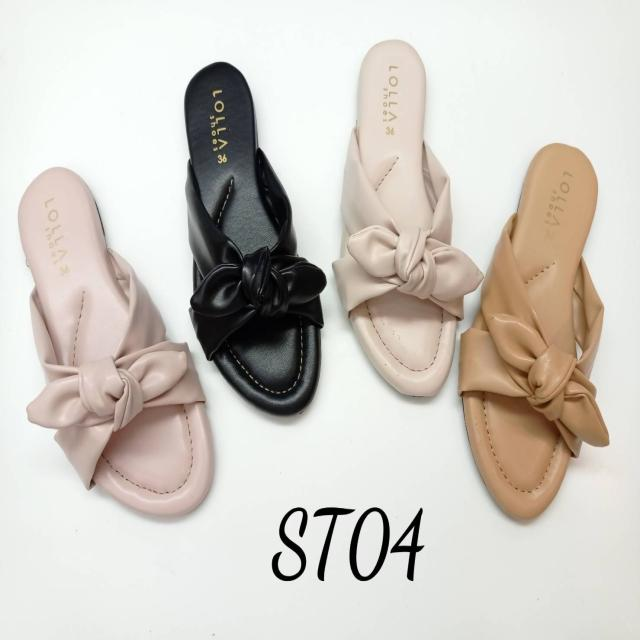black: (183, 64, 323, 418)
cream: (336, 38, 460, 392)
kapi: (20, 165, 209, 522)
tan: (457, 144, 602, 524)
